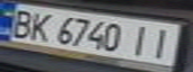0: (103, 20, 127, 53)
4: (87, 18, 109, 51)
6: (51, 13, 75, 46)
7: (69, 16, 90, 47)
B: (3, 7, 39, 38)
I: (145, 25, 181, 60), (124, 24, 157, 57)
K: (24, 10, 57, 43)
